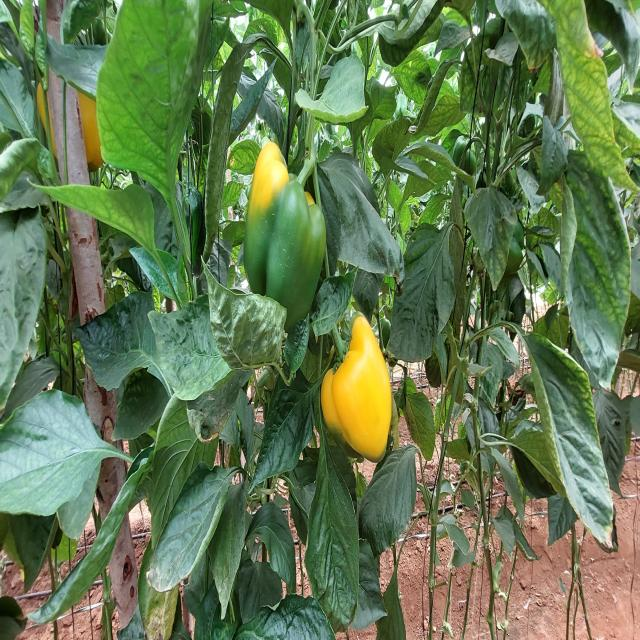GreenishYellow--Can-be-Harvested: (237, 116, 334, 347), (322, 309, 403, 489)
